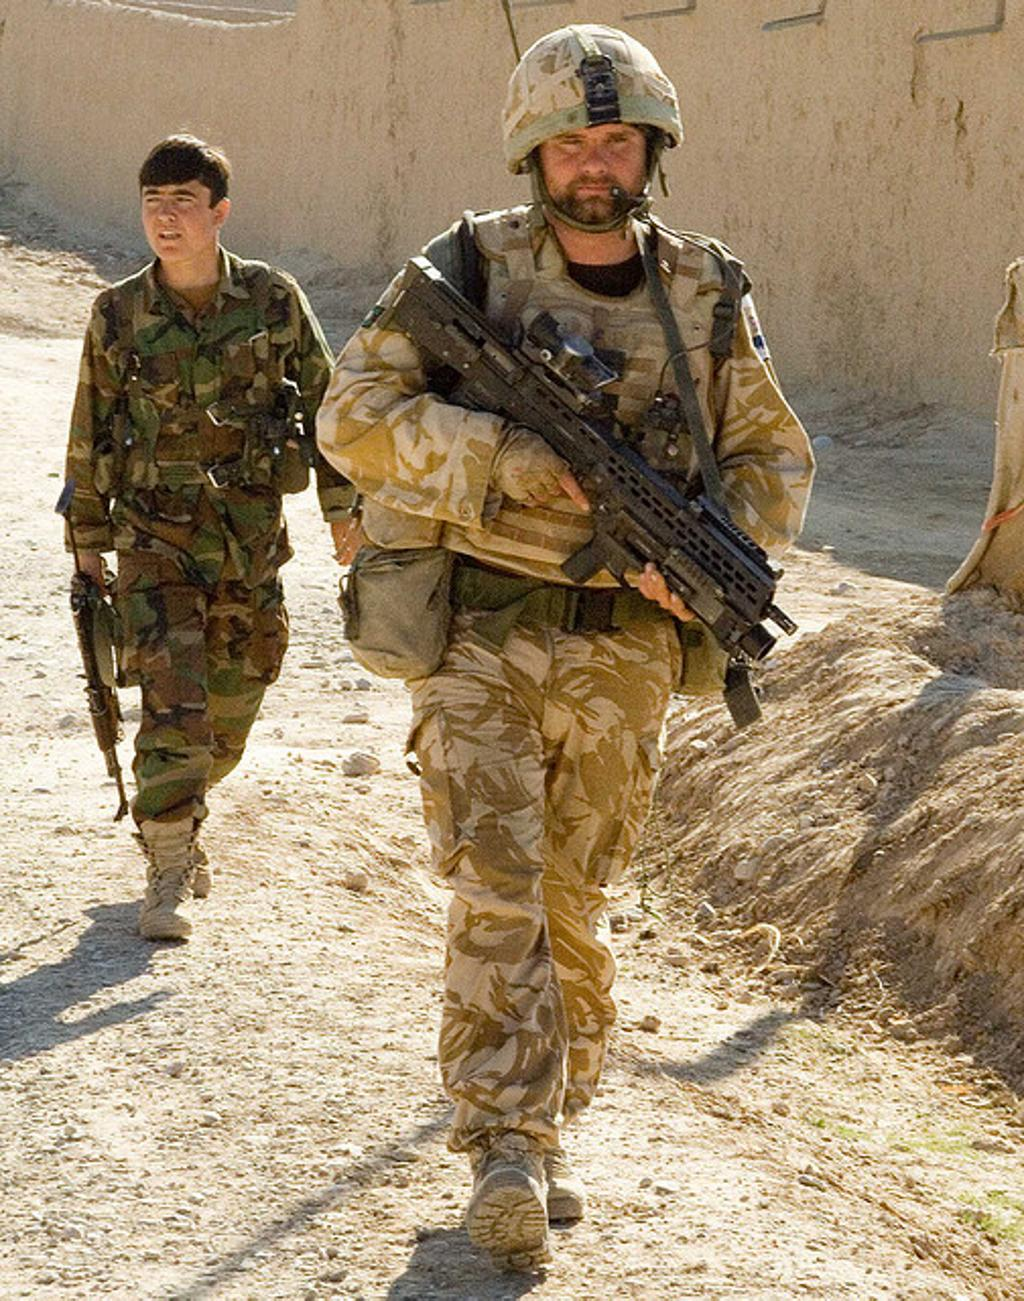face: (551, 81, 645, 216), (145, 163, 214, 257)
